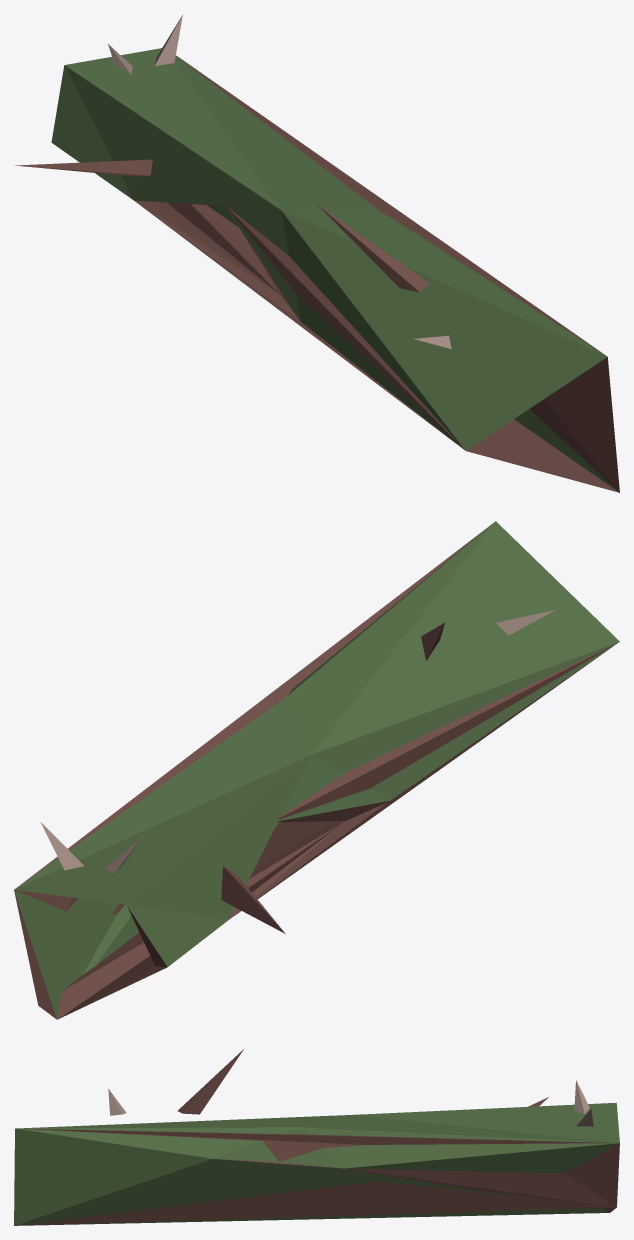
Rendered from WoodLog_Moss.lod3.glb.
3 views of the same model, one above another, from view 1: azimuth 30°, elevation 25°; view 2: azimuth 150°, elevation 25°; view 3: azimuth 270°, elevation 25° (orthographic). The views are drawn at different scales.
Parts seen in each view (by area): view 1: WoodLog_Moss; view 2: WoodLog_Moss; view 3: WoodLog_Moss.
Part boxes in pixels (x1,y1,x2,y2): WoodLog_Moss: (15,14,619,492); WoodLog_Moss: (14,521,619,1019); WoodLog_Moss: (14,1048,619,1225).
Size of the model in its own units: 0.7715 by 0.65 by 2.67.
